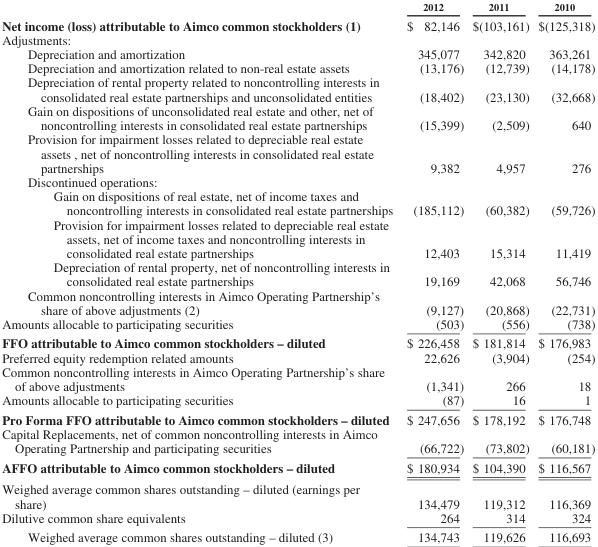table: (1, 0, 594, 544)
table column: (1, 0, 399, 544), (399, 0, 467, 544), (467, 0, 533, 544), (533, 0, 594, 544)
table column header: (1, 0, 594, 15)
table projected row header: (1, 32, 594, 46), (1, 174, 594, 188)
table row: (1, 131, 594, 174), (1, 217, 594, 259), (1, 478, 594, 510), (1, 426, 594, 457), (1, 74, 594, 103), (1, 188, 594, 217), (1, 259, 594, 288), (1, 103, 594, 131), (1, 288, 594, 316), (1, 364, 594, 392), (1, 457, 594, 478), (1, 15, 594, 32), (1, 316, 594, 333), (1, 333, 594, 350), (1, 392, 594, 409), (1, 409, 594, 426), (1, 510, 594, 527), (1, 527, 594, 544), (1, 0, 594, 15), (1, 32, 594, 46), (1, 46, 594, 60), (1, 60, 594, 74), (1, 174, 594, 188), (1, 350, 594, 364)
